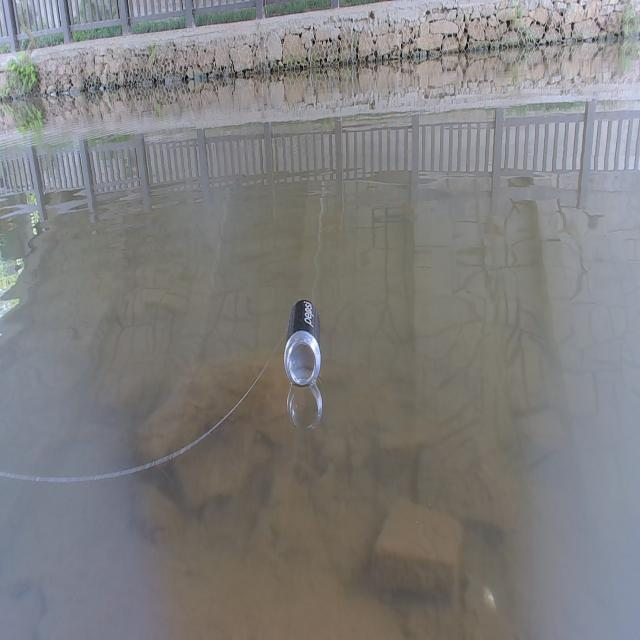Can: (282, 288, 322, 389)
